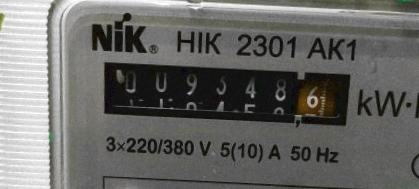0: (121, 68, 139, 94), (153, 66, 168, 93)
3: (213, 70, 229, 96)
4: (240, 69, 260, 100)
6: (303, 80, 321, 110)
8: (272, 74, 289, 102)
9: (183, 71, 199, 98)
screen: (83, 46, 364, 137)
